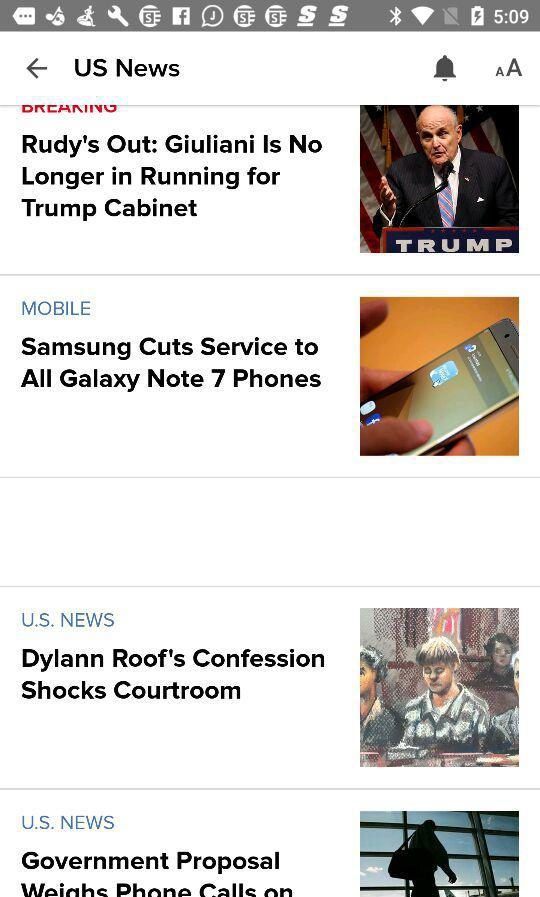Icon: (434, 55, 457, 83), (26, 58, 48, 80)
Image: (360, 608, 520, 768), (360, 297, 519, 456), (360, 106, 519, 254), (360, 811, 519, 897), (495, 58, 523, 78)
Text: (22, 134, 323, 222), (21, 337, 322, 393), (22, 648, 325, 700), (22, 851, 293, 897), (75, 59, 181, 78), (23, 612, 116, 628), (22, 815, 115, 830), (22, 301, 91, 317)
Toolbar: (1, 33, 540, 106)
UpperTaskBar: (1, 1, 540, 33)
